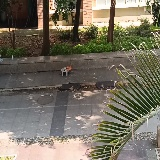fire: (66, 65, 71, 71)
